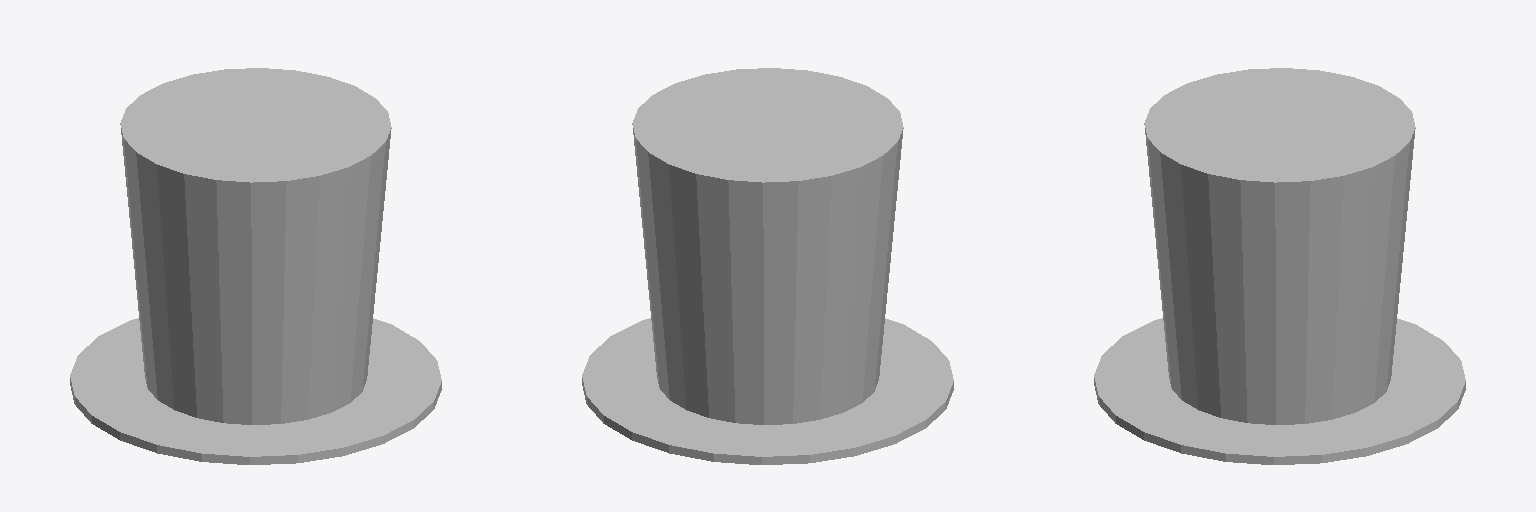
File: Chapeu.obj
The picture shows the model from 3 angles: view 1: azimuth 30°, elevation 25°; view 2: azimuth 150°, elevation 25°; view 3: azimuth 270°, elevation 25°; orthographic projection.
Parts seen in each view (by area): view 1: Mesh1 Component_3__16_1 Model; view 2: Mesh1 Component_3__16_1 Model; view 3: Mesh1 Component_3__16_1 Model.
Boxes of the visible parts, x1,y1,x2,y2 form: Mesh1 Component_3__16_1 Model: [70, 68, 441, 464]; Mesh1 Component_3__16_1 Model: [582, 68, 953, 464]; Mesh1 Component_3__16_1 Model: [1094, 68, 1465, 464].
Size of the model in its own units: 0.9506 by 0.7372 by 0.9506.